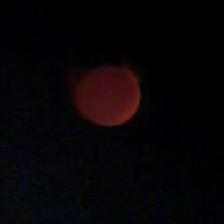infertile: (69, 61, 144, 128)
